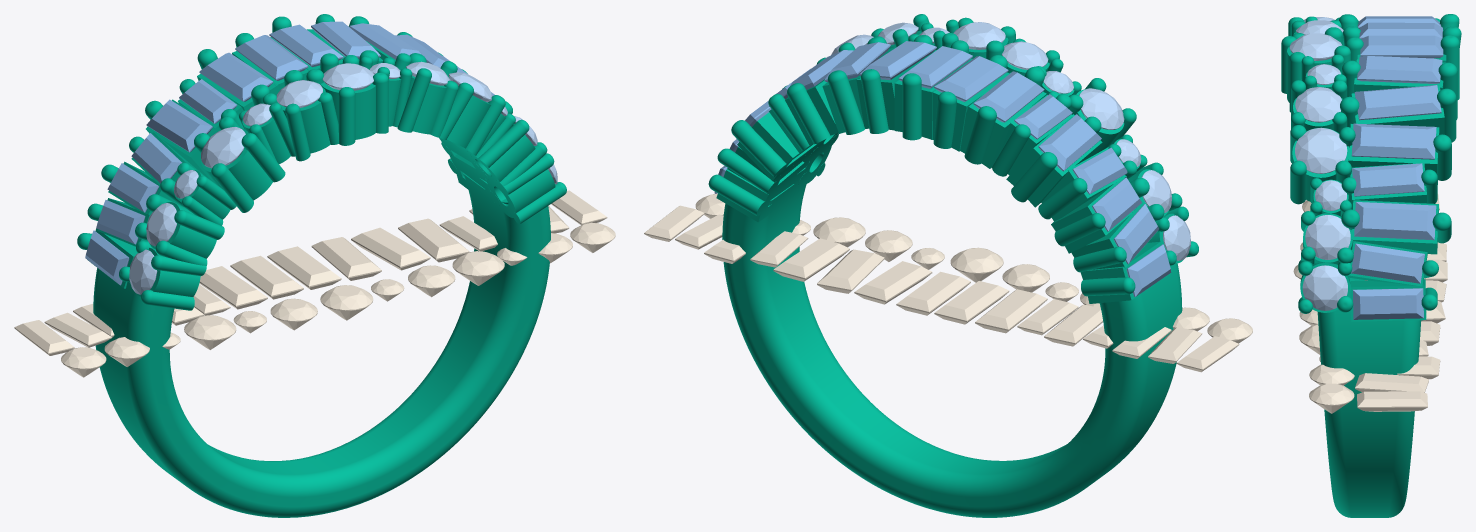
3 renders of one model, left to right at view 1: azimuth 30°, elevation 25°; view 2: azimuth 150°, elevation 25°; view 3: azimuth 270°, elevation 25°, orthographic.
Visible parts, largest first — view 1: VR BAGUETTE RING 001(front).3dm, Diamond_Baguette Straight (×21), Diamond_Round (×13), Bezel (×11), Head Prong (×13); view 2: VR BAGUETTE RING 001(front).3dm, Diamond_Baguette Straight (×26), Head Prong (×16), Bezel (×14), Diamond_Round (×10); view 3: Diamond_Baguette Straight (×18), VR BAGUETTE RING 001(front).3dm, Diamond_Round (×11), Head Prong (×27), Bezel (×12).
Boxes of the visible parts, left/top/right/bottom form: VR BAGUETTE RING 001(front).3dm: left=93, top=172, right=550, bottom=517; Diamond_Baguette Straight (×21): left=14, top=21, right=607, bottom=355; Diamond_Round (×13): left=61, top=63, right=615, bottom=377; Bezel (×11): left=136, top=75, right=555, bottom=296; Head Prong (×13): left=141, top=68, right=566, bottom=310; VR BAGUETTE RING 001(front).3dm: left=722, top=166, right=1182, bottom=517; Diamond_Baguette Straight (×26): left=644, top=41, right=1239, bottom=372; Head Prong (×16): left=708, top=69, right=1135, bottom=296; Bezel (×14): left=716, top=50, right=1169, bottom=303; Diamond_Round (×10): left=813, top=22, right=1252, bottom=343; Diamond_Baguette Straight (×18): left=1351, top=16, right=1447, bottom=411; VR BAGUETTE RING 001(front).3dm: left=1317, top=277, right=1421, bottom=517; Diamond_Round (×11): left=1289, top=20, right=1354, bottom=413; Head Prong (×27): left=1281, top=14, right=1459, bottom=312; Bezel (×12): left=1287, top=47, right=1445, bottom=321.
Bounding box in the file's own units: 3.55 × 2.78 × 0.9883.
